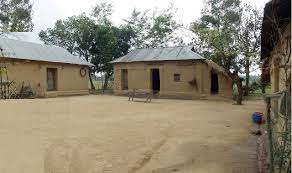Mud House: (111, 43, 239, 103), (1, 29, 92, 102)
